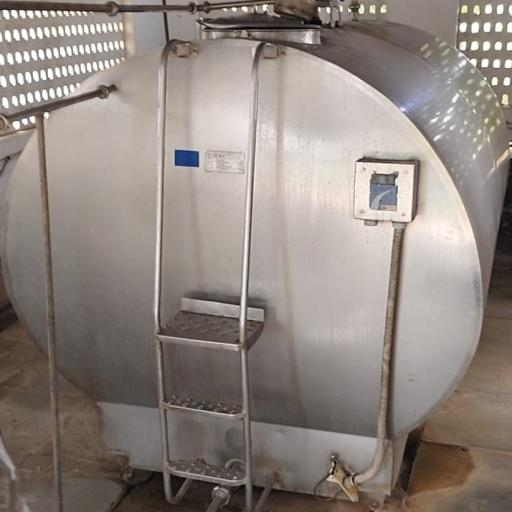silo: (0, 13, 511, 501)
